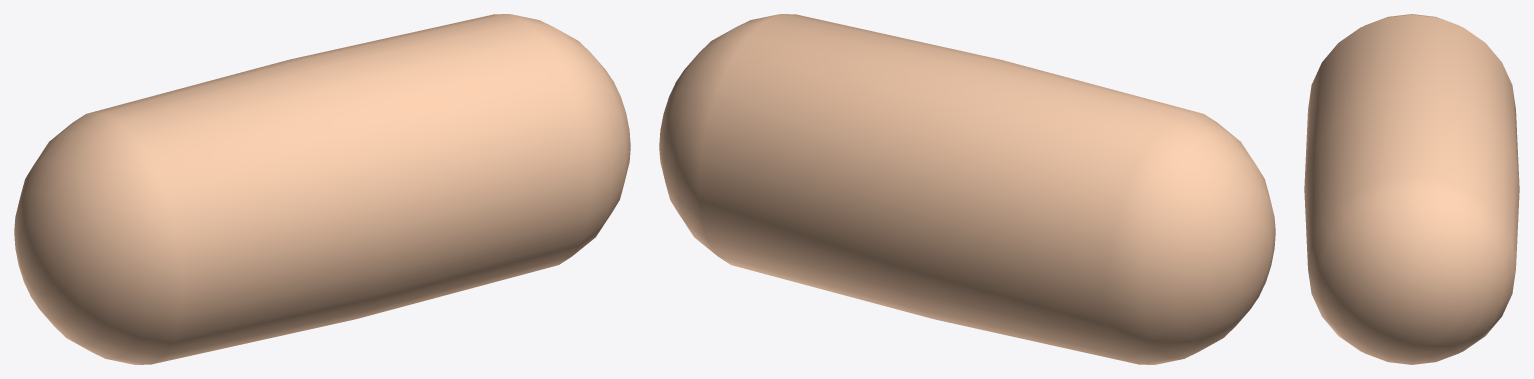
File: mitochondrion-lod.glb
3 renders of one model, left to right at view 1: azimuth 30°, elevation 25°; view 2: azimuth 150°, elevation 25°; view 3: azimuth 270°, elevation 25°, orthographic. The views are drawn at different scales.
Parts seen in each view (by area): view 1: Outer; view 2: Outer; view 3: Outer.
Part boxes in pixels (<box>): Outer: <box>14,14,630,364</box>; Outer: <box>659,14,1275,364</box>; Outer: <box>1304,14,1519,364</box>.
Bounding box in the file's own units: 20 × 8 × 8.
